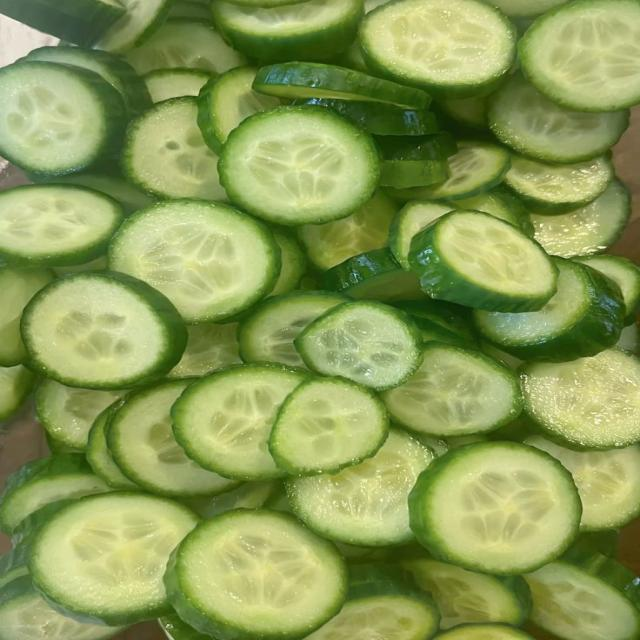cucumber sliced: (166, 510, 346, 639), (409, 442, 581, 574), (29, 492, 197, 624), (109, 199, 280, 324), (21, 272, 186, 389), (219, 106, 379, 225), (287, 429, 434, 546), (474, 259, 625, 361), (107, 379, 237, 497), (172, 365, 305, 480), (360, 0, 515, 97), (409, 211, 557, 312), (0, 61, 126, 175), (519, 0, 639, 111), (383, 342, 521, 437), (488, 76, 628, 163), (522, 349, 639, 450), (269, 377, 388, 475), (295, 301, 421, 389), (389, 192, 530, 270), (525, 436, 639, 530), (122, 97, 226, 200), (525, 548, 639, 639), (307, 564, 439, 639), (0, 185, 122, 266), (402, 555, 530, 629), (212, 0, 362, 60), (0, 454, 112, 534), (26, 47, 151, 115), (238, 291, 347, 367), (254, 63, 430, 109), (298, 191, 399, 270), (0, 576, 123, 639), (532, 180, 631, 258), (387, 142, 511, 201), (198, 67, 280, 153), (127, 19, 246, 75), (505, 156, 613, 214), (297, 95, 439, 139), (35, 379, 123, 449), (0, 0, 124, 46), (323, 248, 425, 303), (0, 267, 54, 367), (389, 200, 456, 271), (86, 400, 139, 489), (47, 173, 155, 216), (576, 256, 639, 324), (394, 297, 477, 348), (451, 187, 533, 237), (168, 323, 240, 377), (182, 481, 283, 519), (11, 494, 85, 545), (98, 0, 172, 51), (267, 228, 306, 296), (375, 132, 458, 160), (144, 68, 211, 102), (380, 160, 450, 189), (0, 365, 36, 420), (439, 96, 488, 130), (434, 623, 533, 639), (483, 0, 568, 18), (0, 544, 30, 588), (576, 529, 620, 559), (158, 614, 210, 639), (52, 254, 108, 277), (480, 341, 522, 370), (169, 0, 212, 22), (617, 324, 639, 356), (230, 0, 306, 8), (364, 0, 389, 13)
